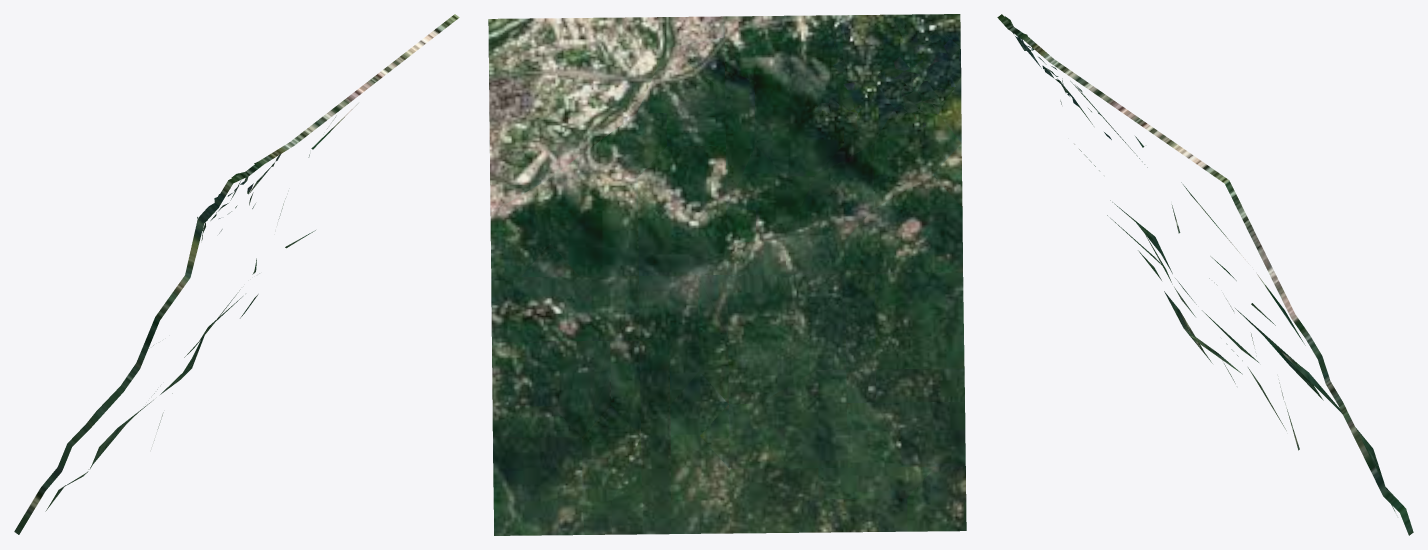
3 views of the same model, side by side, from view 1: azimuth 30°, elevation 25°; view 2: azimuth 150°, elevation 25°; view 3: azimuth 270°, elevation 25° (orthographic). The views are drawn at different scales.
Bounding box in the file's own units: 10197 × 8922 × 8278.
1 material, 1 textured.
